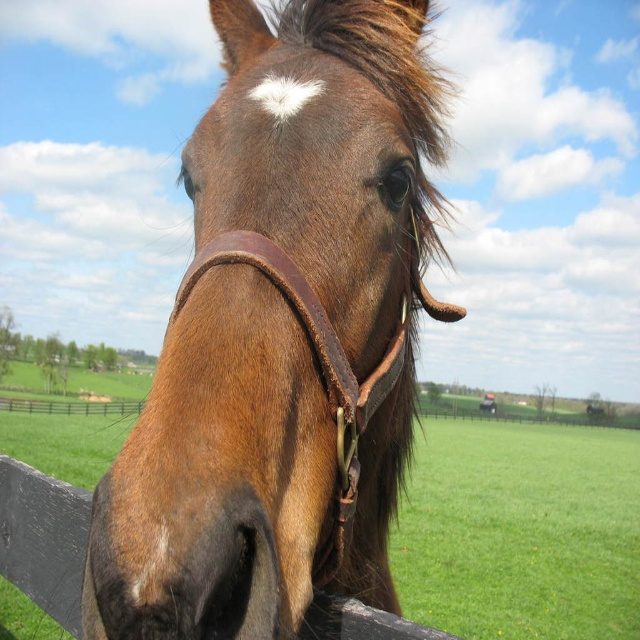Horse: (70, 0, 467, 637)
